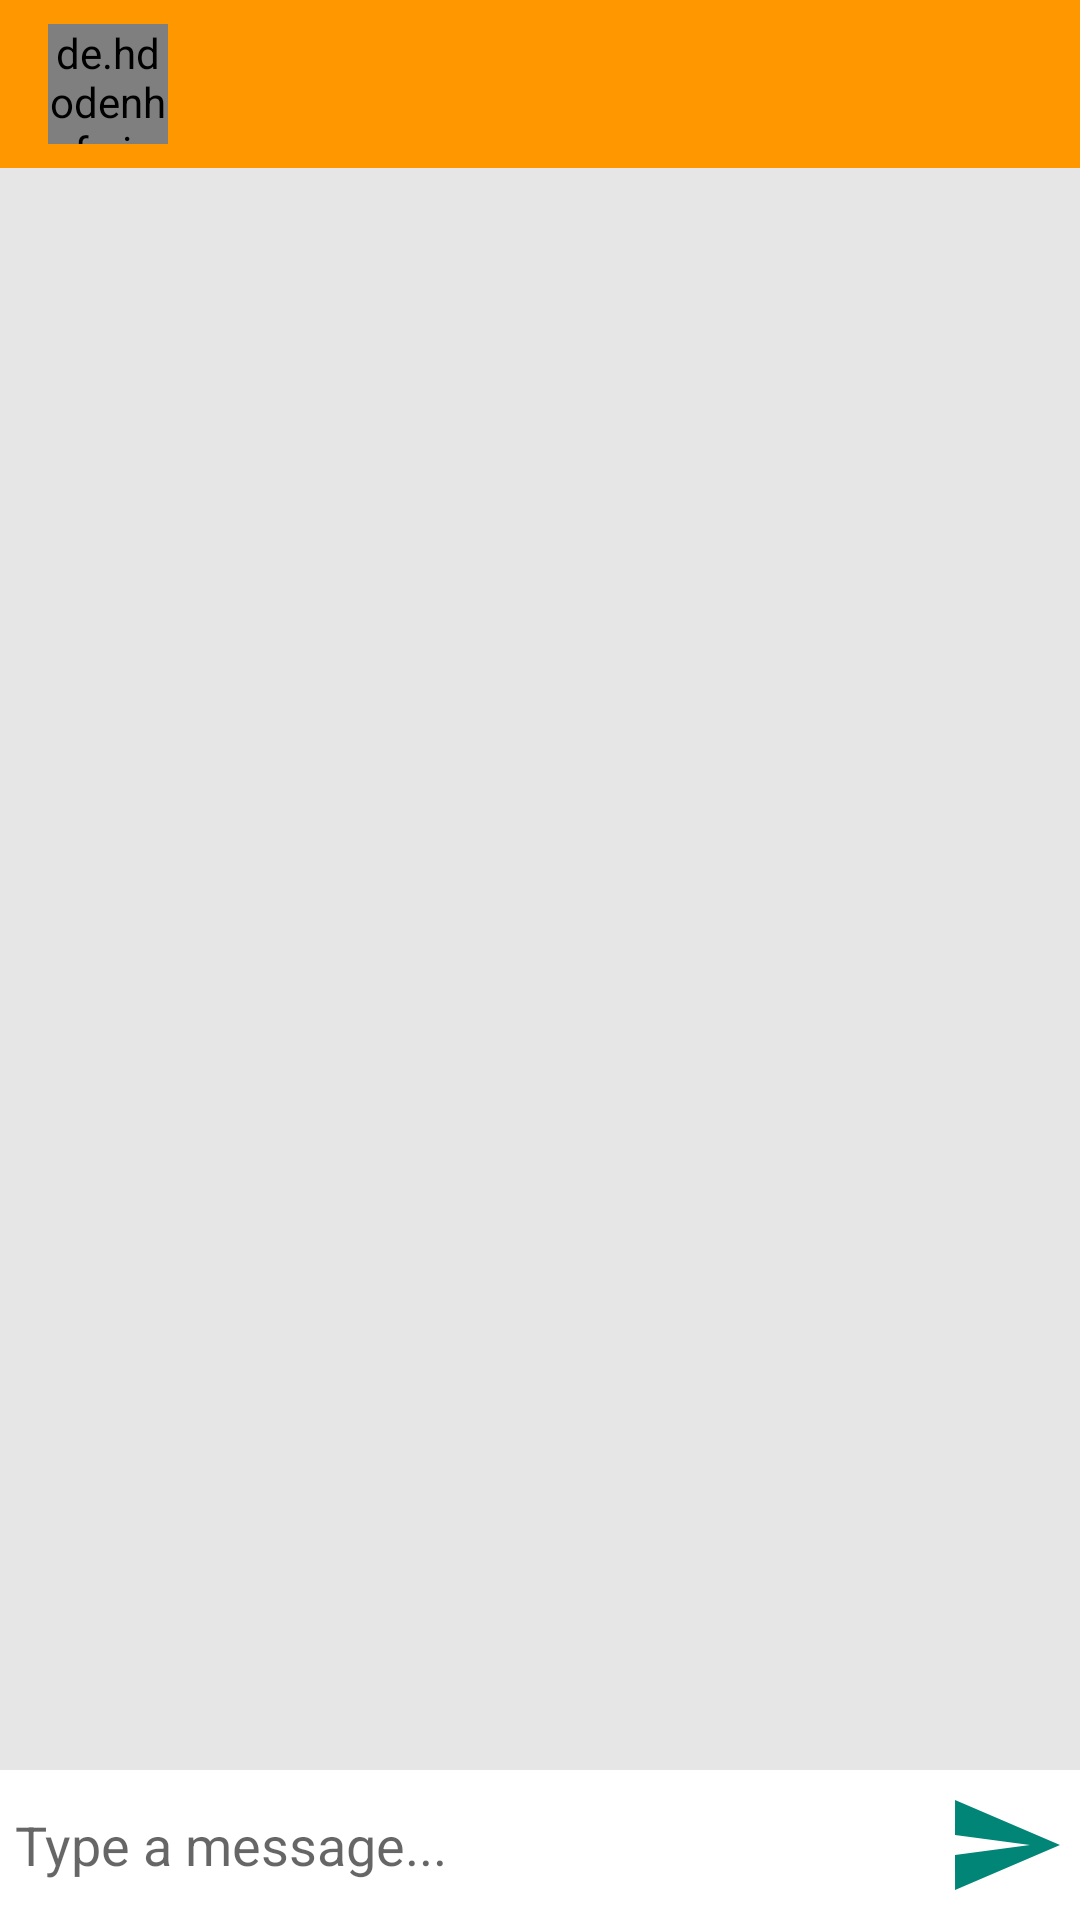

Where icons sit on this 1080px×1920px app screen, as (x1,y1,x2,y2):
send: (955,1800,1060,1890)
